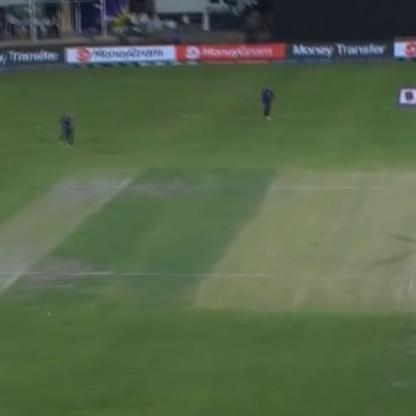ball: (44, 310, 52, 320)
